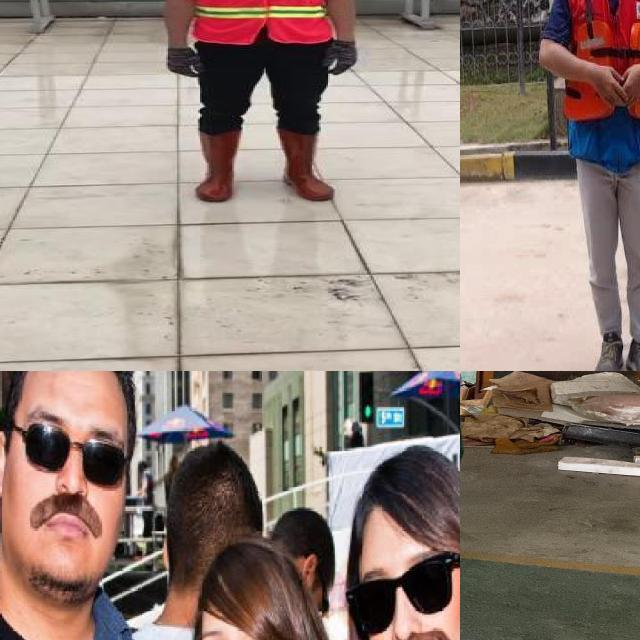boots: (276, 128, 341, 204), (191, 128, 239, 203), (582, 326, 626, 371), (622, 336, 640, 371)
face_nomask: (19, 406, 126, 556), (357, 549, 460, 640)
glasses: (341, 553, 460, 637), (13, 419, 134, 488)
hand_glove: (323, 39, 365, 78), (163, 48, 205, 79)
head_nohelmet: (344, 457, 460, 531), (196, 548, 296, 623), (172, 440, 262, 500)
person: (0, 371, 185, 640), (153, 0, 361, 206), (532, 0, 640, 371), (348, 441, 460, 640), (171, 539, 362, 640), (460, 371, 505, 623)
vest: (562, 0, 640, 134), (189, 0, 329, 45)
